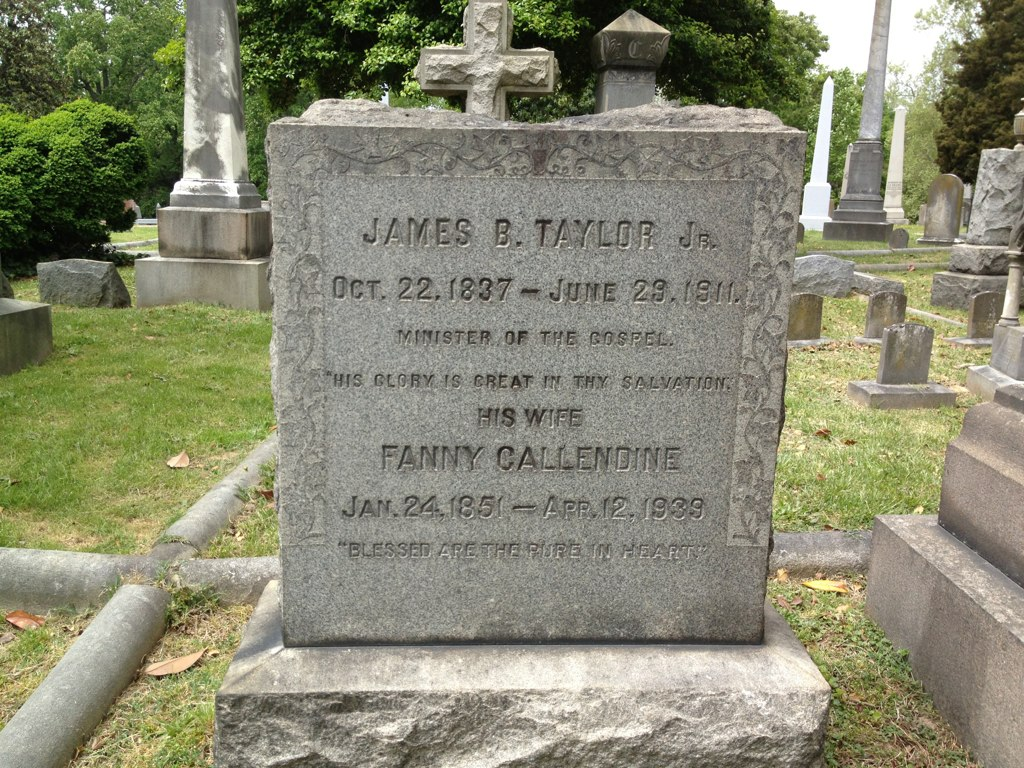upright: (268, 101, 800, 650)
